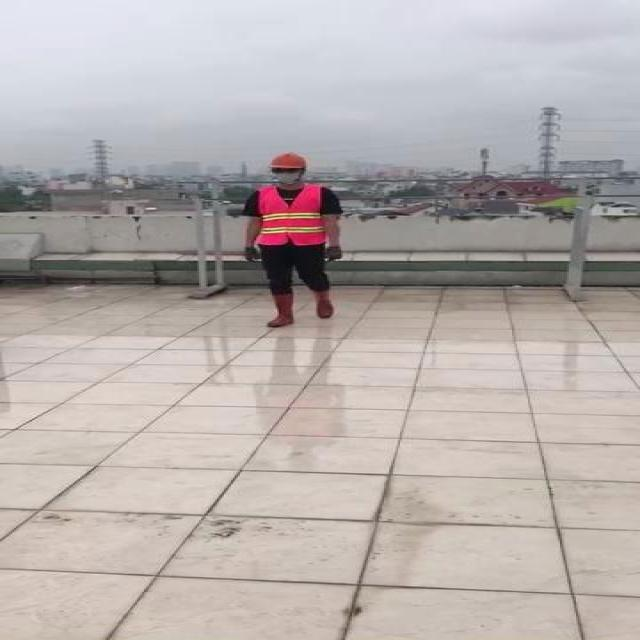boots: (263, 291, 295, 328), (314, 288, 338, 318)
face_mask: (271, 166, 301, 183)
glasses: (270, 166, 302, 175)
hand_glove: (322, 245, 343, 262), (244, 246, 263, 264)
head_helmet: (268, 150, 310, 169)
person: (232, 153, 344, 332)
vest: (254, 185, 326, 245)
